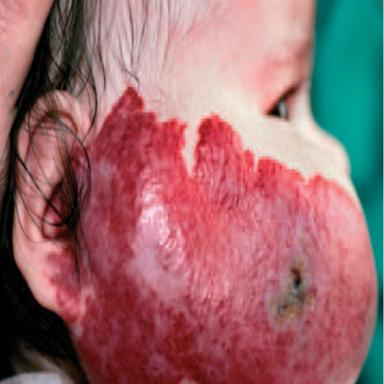Hemangiome: (78, 88, 376, 382)
